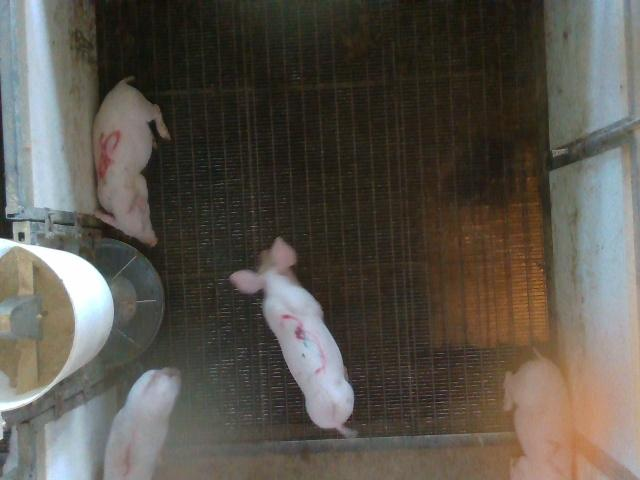pig-1: (104, 368, 181, 479)
pig-2: (504, 352, 571, 478)
pig-3: (230, 238, 354, 436)
pig-5: (92, 76, 170, 247)
